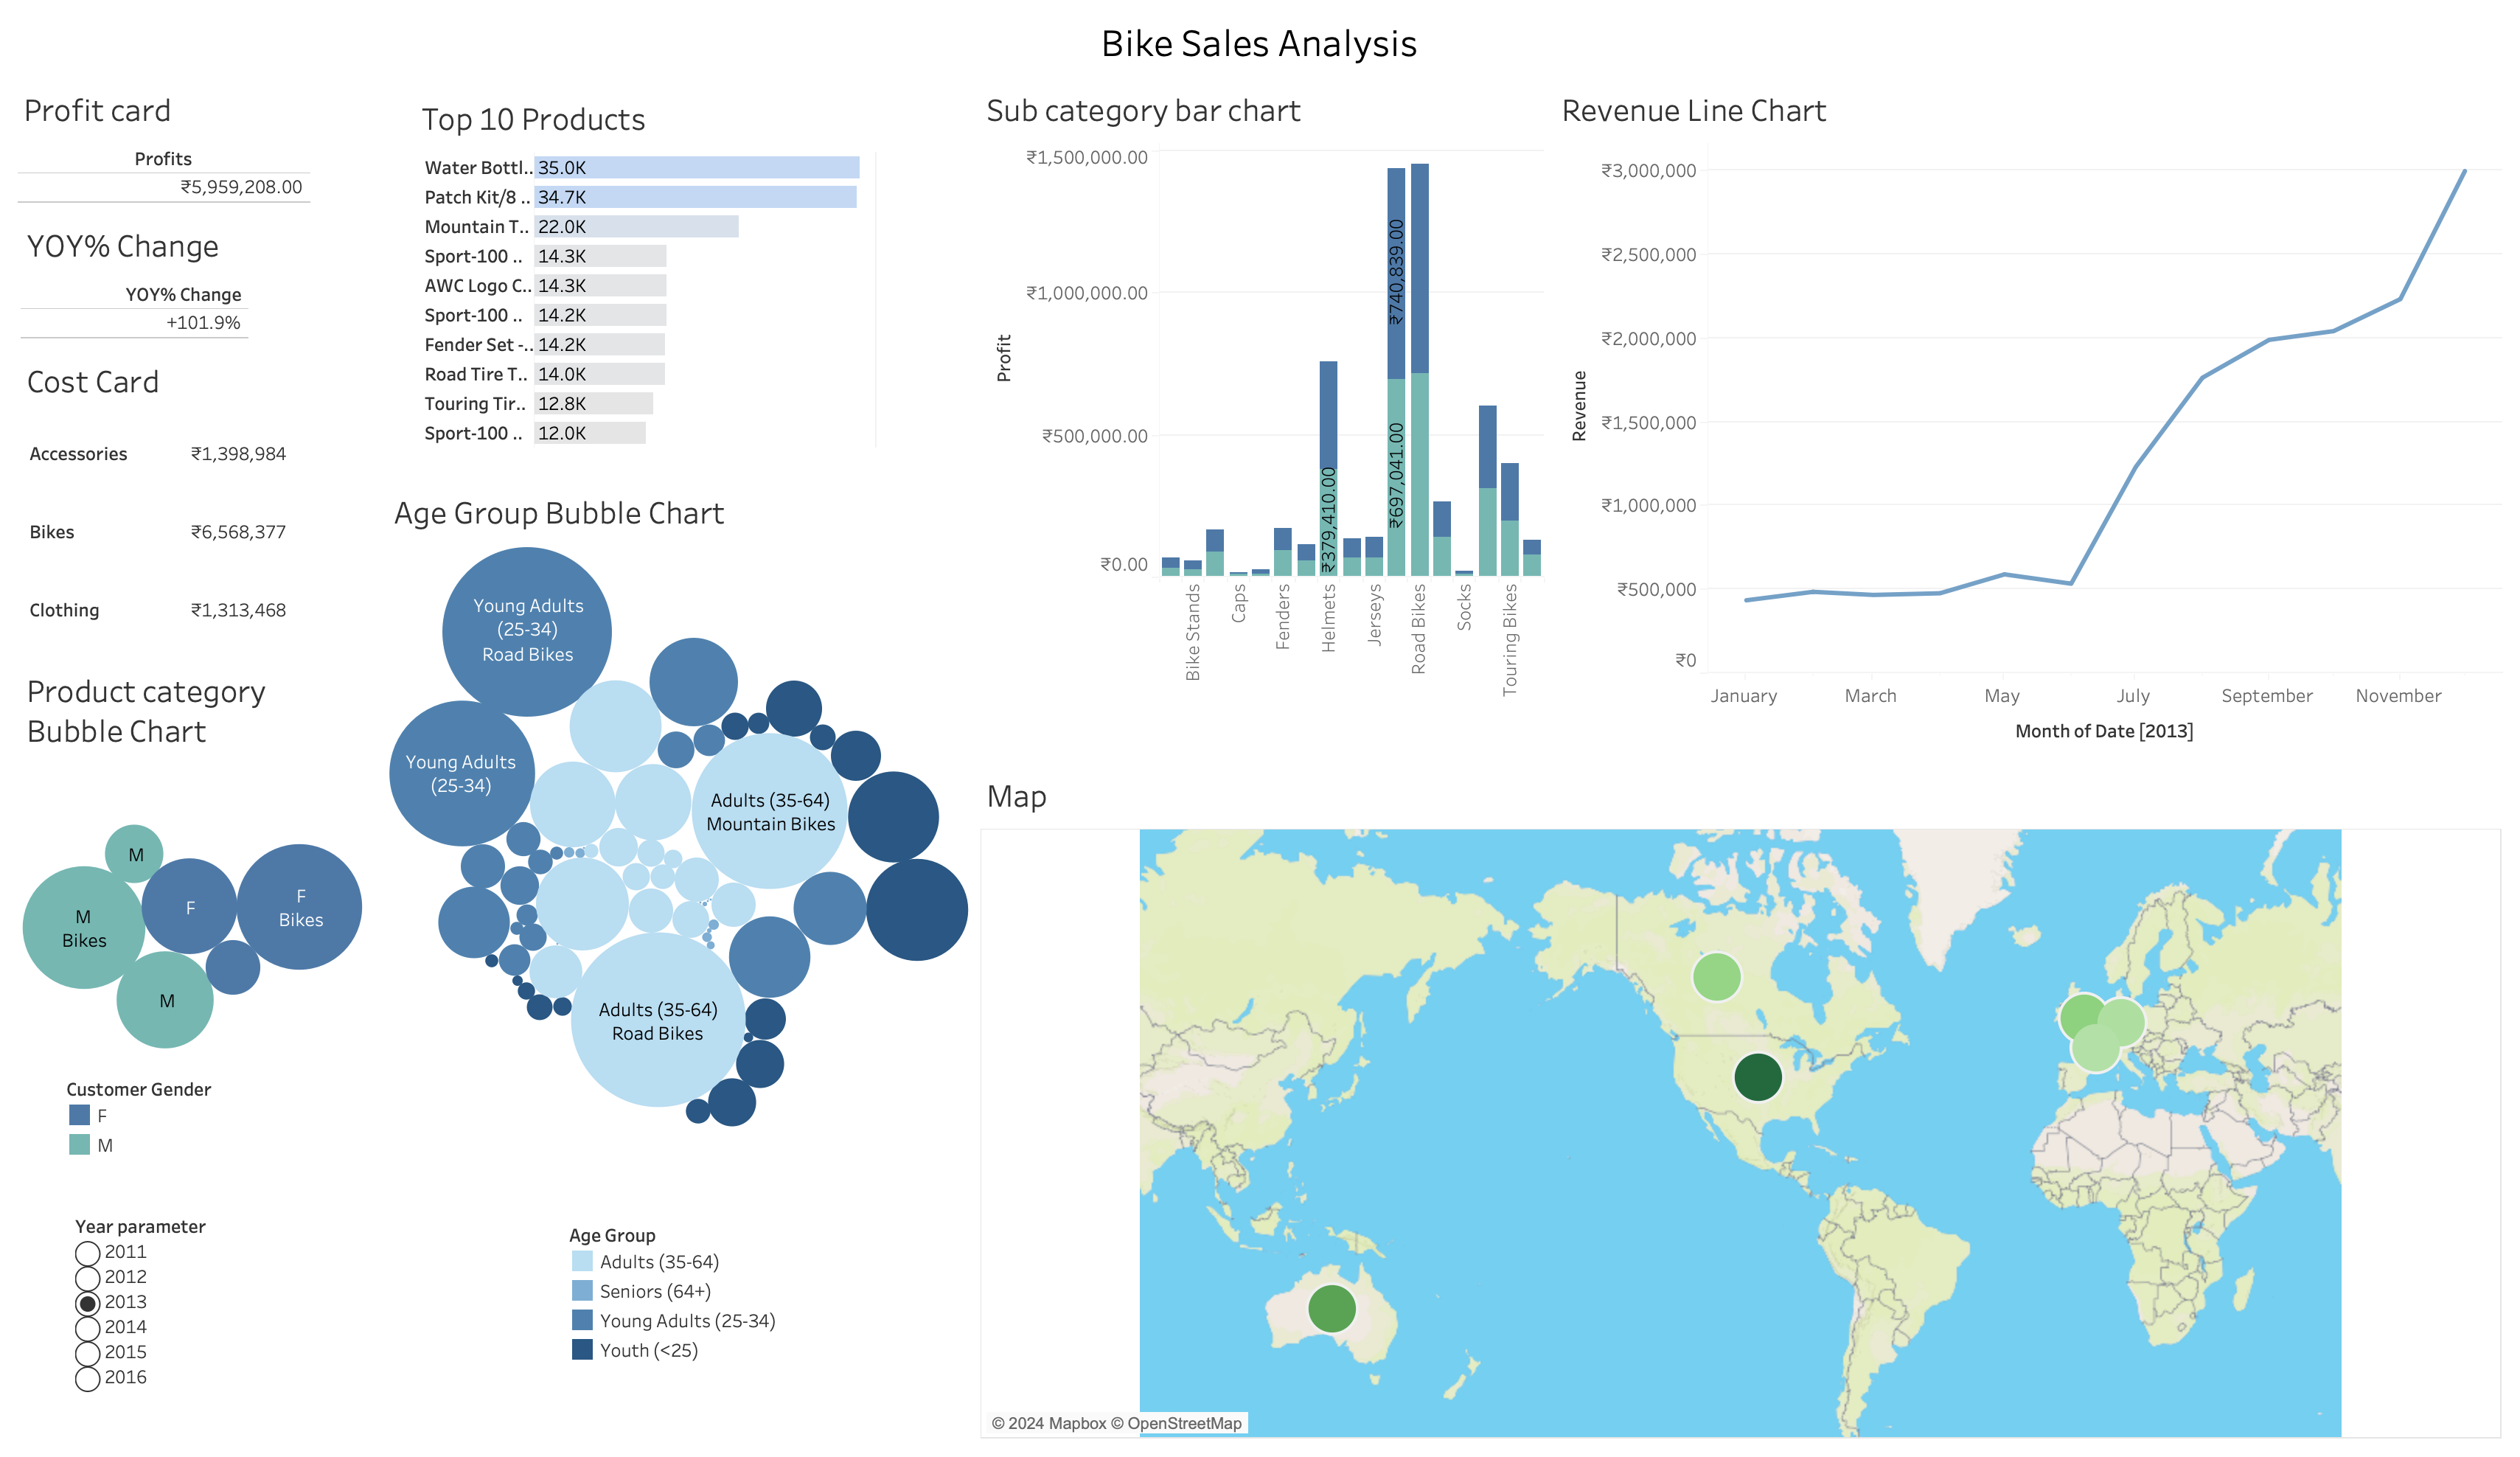

The dashboard page shown, as its layout file describes it:
{"tool":"tableau","page":{"name":"Dashboard 1","canvas":[1000,1000],"units":"permille","ordinal":0},"visuals":[{"type":"title","box":[4.7,8.1,990.6,42.5]},{"type":"worksheet","title":"Profit card","mark":"Automatic","cols":["Calculation_918593610490388481"],"box":[4.7,50.6,382.1,941.3]},{"type":"worksheet","title":"Sub category bar chart","mark":"Bar","rows":["Profit"],"cols":["Sub_Category"],"box":[386.8,50.6,228.2,470.7]},{"type":"worksheet","title":"Revenue Line Chart","mark":"Automatic","rows":["Revenue"],"cols":["Date"],"box":[615,50.6,380.3,470.7]},{"type":"worksheet","title":"Top 10 Products","mark":"Bar","rows":["Product"],"box":[165,60.7,193.1,267.2]},{"type":"worksheet","title":"YOY% change","mark":"Automatic","cols":["Calculation_918593610492702727"],"box":[5.9,143.7,140.4,93.1]},{"type":"worksheet","title":"Cost Card","mark":"Automatic","rows":["Product_Category"],"box":[5.9,236.8,140.4,212.6]},{"type":"worksheet","title":"Age Group Bubble Chart","mark":"Circle","box":[153.9,331,252.8,442.3]},{"type":"worksheet","title":"Product category Bubble Chart","mark":"Circle","box":[5.9,449.4,140.4,508.1]},{"type":"worksheet","title":"Map","mark":"Circle","box":[386.8,521.3,608.5,470.6]},{"type":"legend","title":"Sub category bar chart","param":"[federated.16p8v8c1vx52ng1gwazr90azddyd].[none:Customer_Gender:nk]","box":[25.8,736.8,81.9,58.7]},{"type":"parameter","param":"[Parameters].[Parameter 1]","box":[29.8,832,93.6,143.7]},{"type":"legend","title":"Age Group Bubble Chart","param":"[federated.16p8v8c1vx52ng1gwazr90azddyd].[none:Age_Group:nk]","box":[225.3,837,85.4,99.2]}]}

Visuals, with their boxes on the dashboard's canvas, which has no fixed pixel size, in thousandths of its width and height (x1, y1, x2, y2). These are canvas units, not pixel positions in the 2520x1457 screenshot, which may show the page scaled, cropped or inside an application window:
title: Rect(5, 8, 995, 51)
"Profit card" worksheet: Rect(5, 51, 387, 992)
"Sub category bar chart" worksheet (Bar marks): Rect(387, 51, 615, 521)
"Revenue Line Chart" worksheet: Rect(615, 51, 995, 521)
"Top 10 Products" worksheet (Bar marks): Rect(165, 61, 358, 328)
"YOY% change" worksheet: Rect(6, 144, 146, 237)
"Cost Card" worksheet: Rect(6, 237, 146, 449)
"Age Group Bubble Chart" worksheet (Circle marks): Rect(154, 331, 407, 773)
"Product category Bubble Chart" worksheet (Circle marks): Rect(6, 449, 146, 958)
"Map" worksheet (Circle marks): Rect(387, 521, 995, 992)
"Sub category bar chart" legend: Rect(26, 737, 108, 796)
parameter: Rect(30, 832, 123, 976)
"Age Group Bubble Chart" legend: Rect(225, 837, 311, 936)
